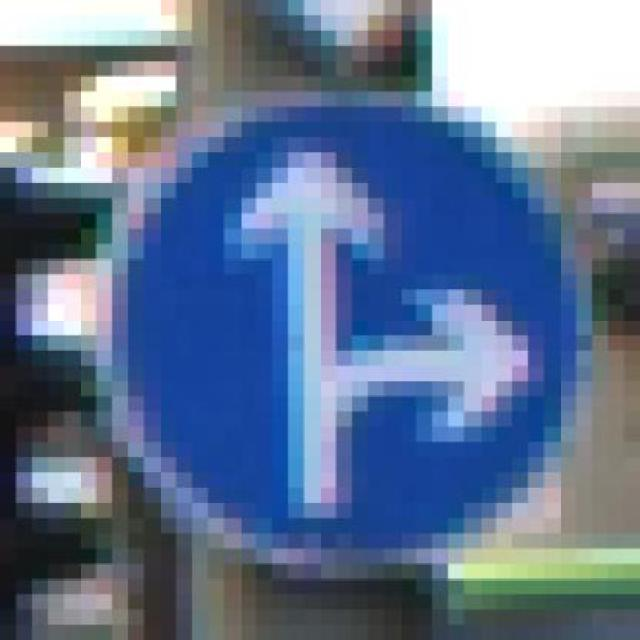Go Straight or Turn Right: (80, 92, 608, 579)
